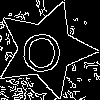O: (20, 24, 63, 72)
